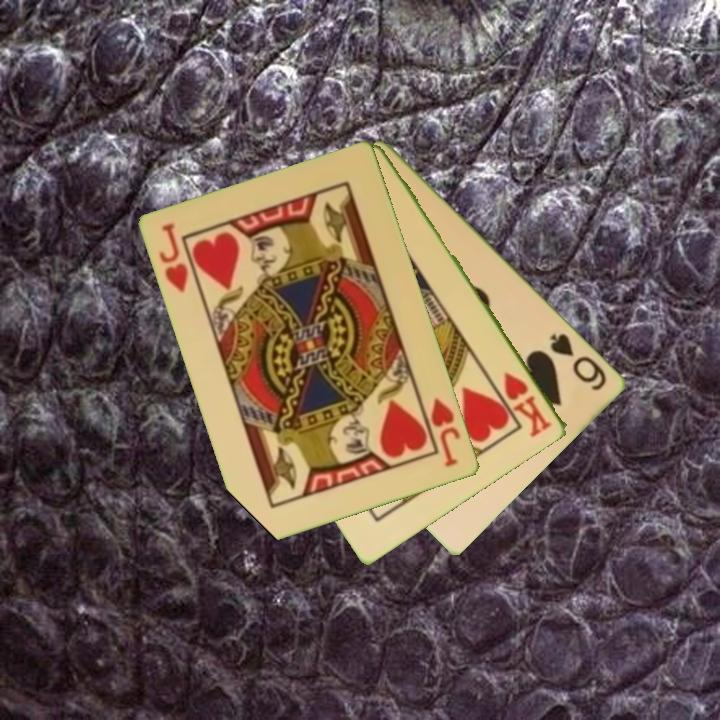6s: (546, 329, 610, 394)
Jh: (428, 394, 464, 470), (156, 220, 192, 296)
Kh: (500, 368, 556, 441)
